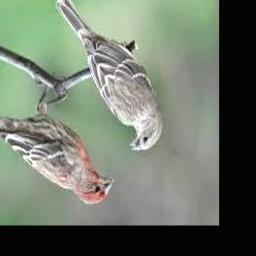Sparrow: (55, 0, 163, 151), (0, 85, 113, 205)
